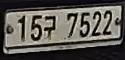1: (15, 13, 28, 43)
2: (102, 9, 114, 37), (90, 10, 102, 37)
5: (29, 13, 43, 42), (80, 12, 91, 37)
7: (64, 11, 79, 41)
구: (43, 15, 58, 41)
